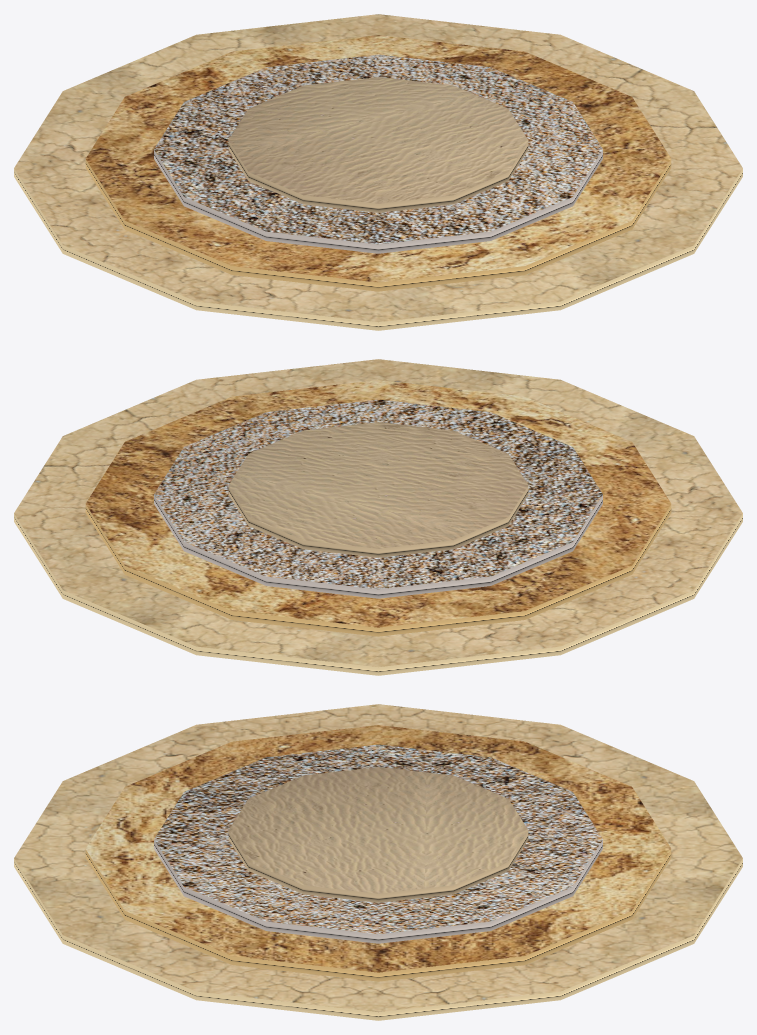
Rendered from Sol.fbx.
3 renders of one model, top to bottom at view 1: azimuth 30°, elevation 25°; view 2: azimuth 150°, elevation 25°; view 3: azimuth 270°, elevation 25°, orthographic.
Visible parts, largest first — view 1: pCylinder1, pCylinder2, pCylinder3, pCylinder4; view 2: pCylinder1, pCylinder2, pCylinder3, pCylinder4; view 3: pCylinder1, pCylinder2, pCylinder3, pCylinder4.
Boxes of the visible parts, bbox=[...] form: pCylinder1: bbox=[14, 14, 742, 330]; pCylinder2: bbox=[85, 35, 671, 291]; pCylinder3: bbox=[154, 54, 602, 253]; pCylinder4: bbox=[228, 77, 528, 212]; pCylinder1: bbox=[14, 359, 742, 675]; pCylinder2: bbox=[85, 380, 671, 636]; pCylinder3: bbox=[154, 399, 602, 598]; pCylinder4: bbox=[228, 422, 528, 557]; pCylinder1: bbox=[14, 704, 742, 1020]; pCylinder2: bbox=[85, 725, 671, 981]; pCylinder3: bbox=[154, 744, 602, 943]; pCylinder4: bbox=[228, 767, 528, 902].
Size of the model in its own units: 2355 by 130 by 2355.
